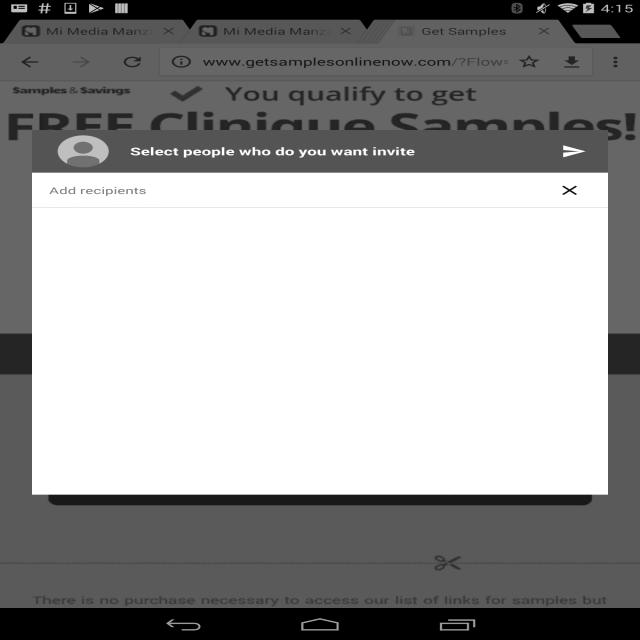ImageButton: (551, 137, 595, 164), (112, 52, 153, 72), (60, 51, 98, 71), (559, 53, 588, 73), (19, 54, 48, 74), (513, 51, 545, 69), (605, 52, 625, 69)
ImageView: (49, 134, 106, 165)
TextView: (221, 85, 481, 105), (118, 141, 430, 157)
